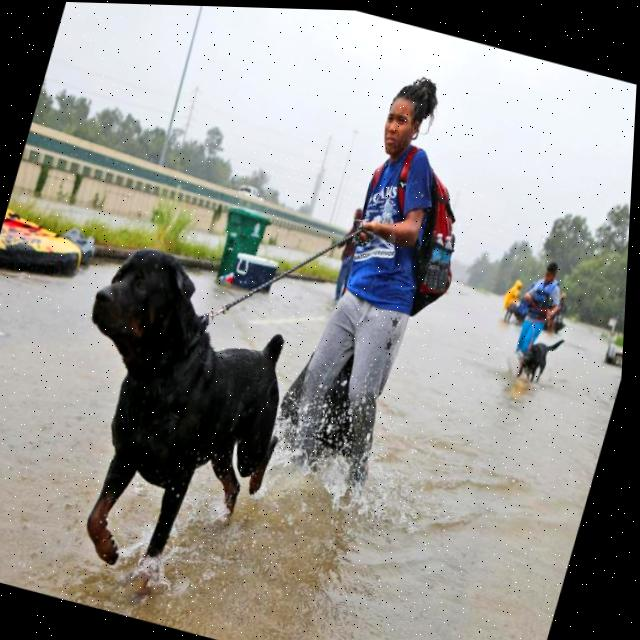civilian: (257, 59, 501, 511), (501, 252, 567, 353), (499, 274, 525, 325)
dog: (11, 230, 333, 607), (500, 322, 569, 388)
